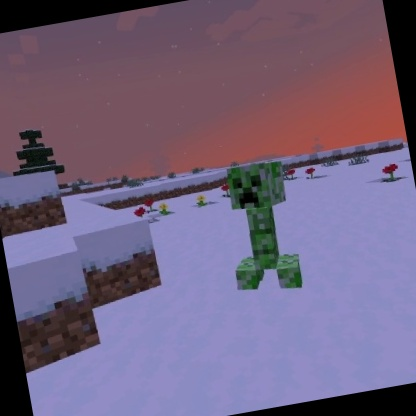creeper: (211, 154, 308, 302)
